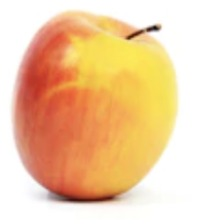apple: (14, 38, 185, 212)
